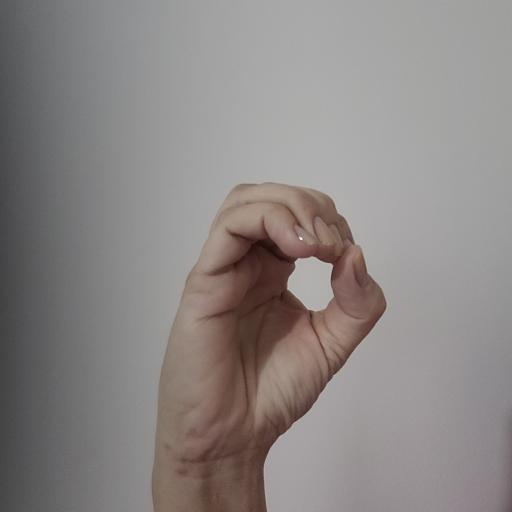O: (153, 182, 386, 475)
